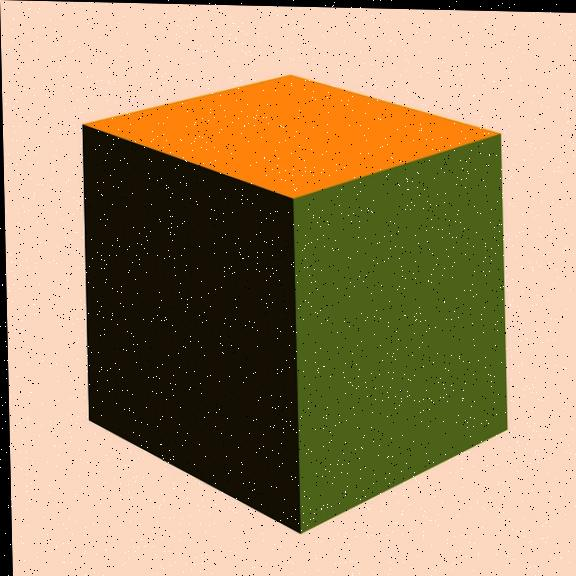cube: (69, 69, 510, 534)
